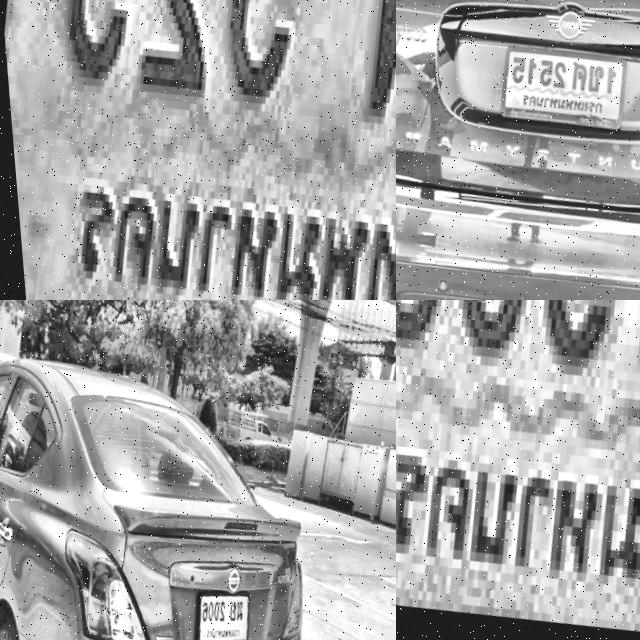license-plate: (0, 0, 396, 300), (396, 300, 640, 640), (485, 29, 628, 144), (167, 578, 260, 640)
